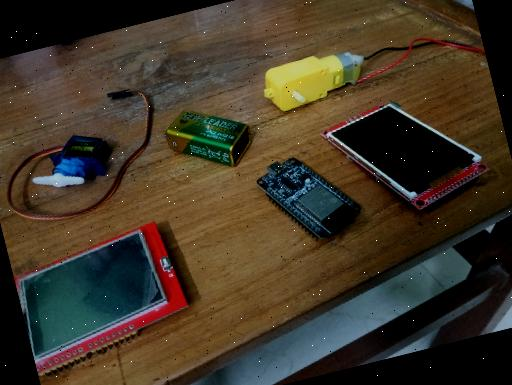Battery: (156, 92, 260, 183)
Display: (8, 216, 198, 380), (314, 80, 498, 237)
Esp32: (249, 142, 367, 256)
Motor: (255, 42, 373, 117), (21, 124, 119, 199)
